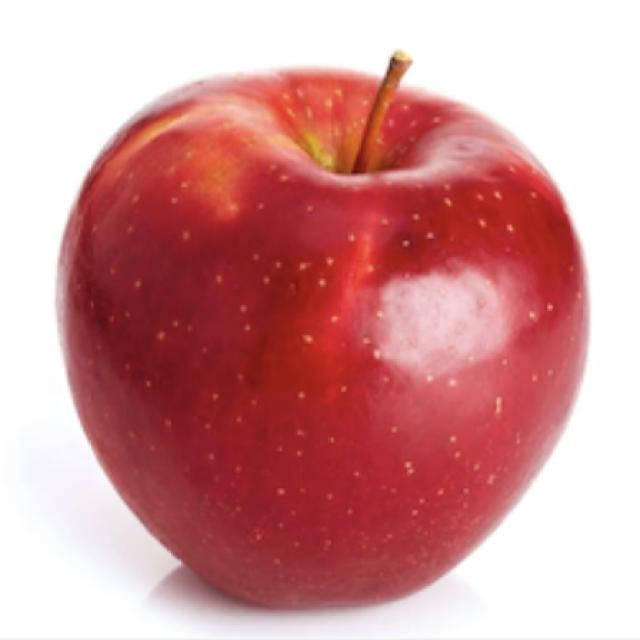Fresh Apple: (82, 73, 578, 595)
